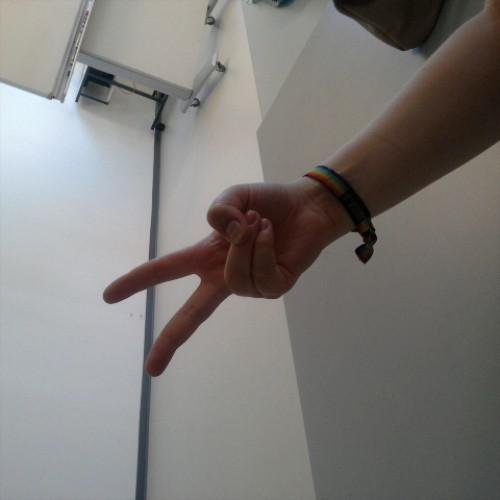scissors: (90, 166, 472, 362)
